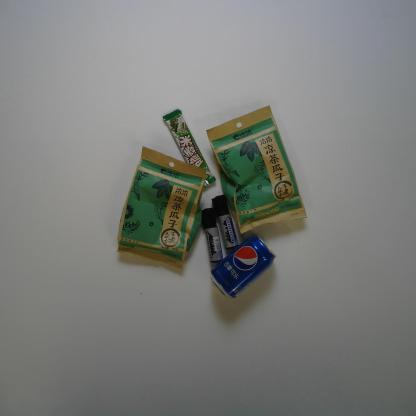Chocolate: (162, 108, 217, 188)
Dried Food: (205, 104, 309, 235), (116, 146, 207, 270)
Drink: (209, 235, 277, 300)
Stationery: (210, 194, 240, 251), (201, 207, 224, 264)
